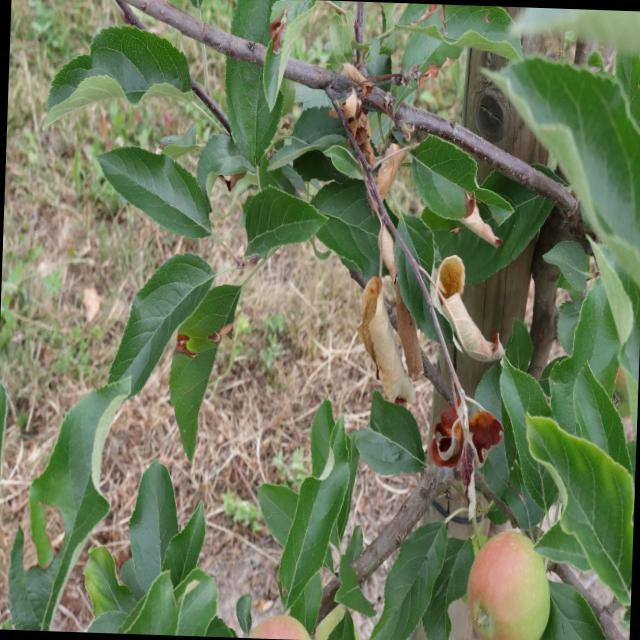-FireBlight-: (327, 66, 408, 204), (356, 269, 434, 392), (425, 254, 509, 359), (440, 381, 507, 491)
